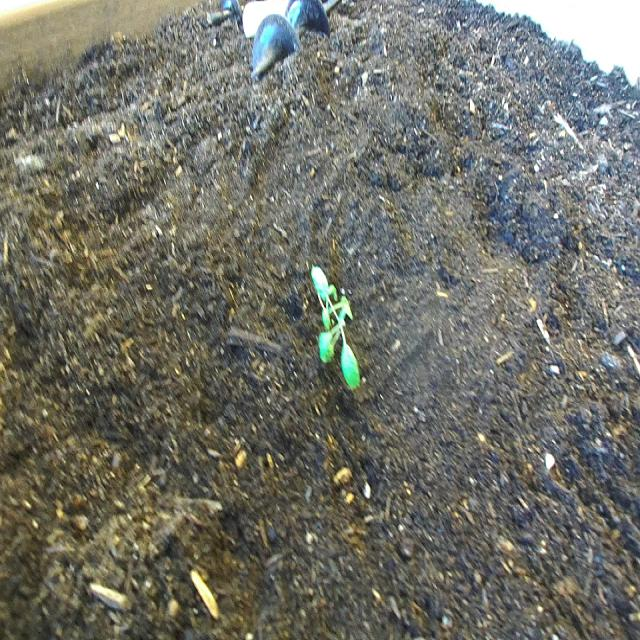Unhealthy: (308, 263, 367, 397)
